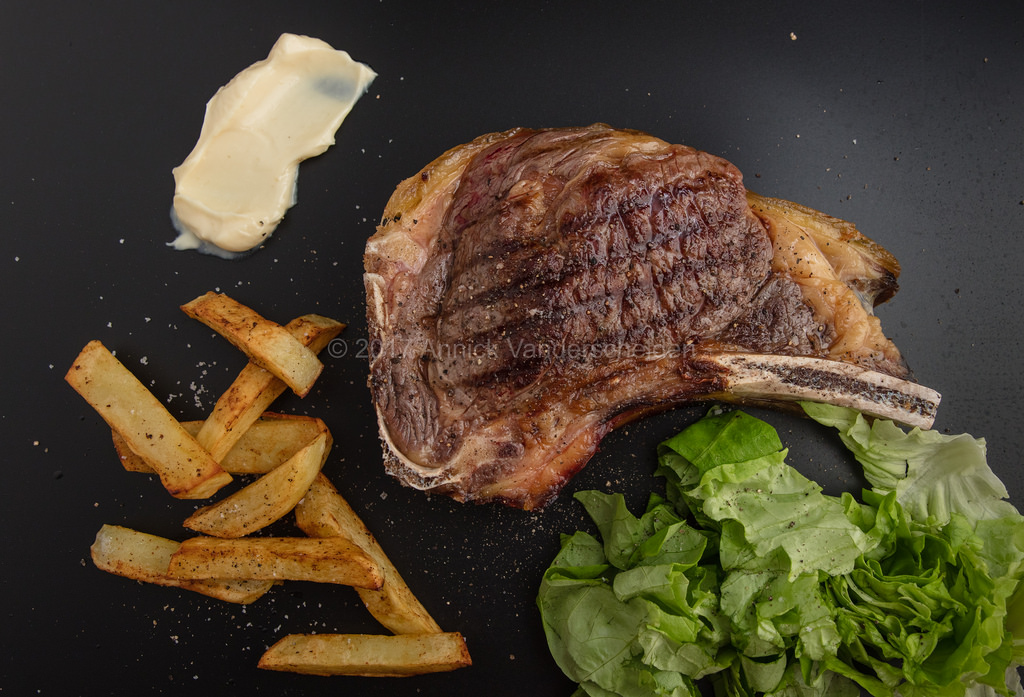chopped lettuce: (556, 424, 1020, 697)
